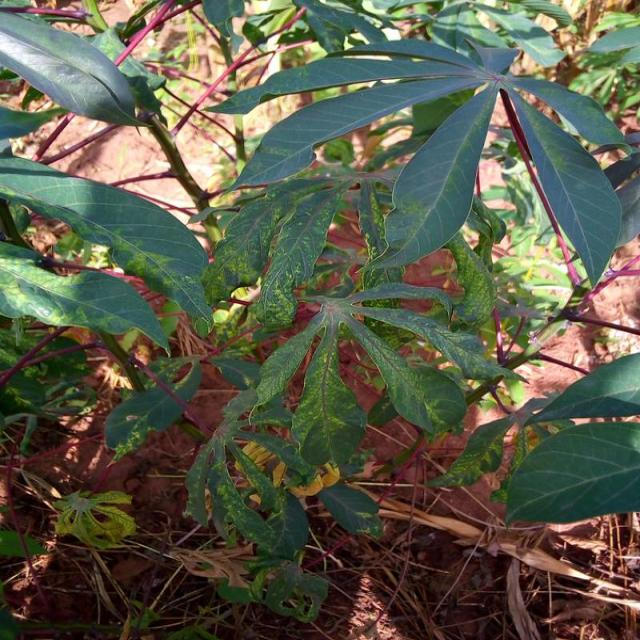cassava leaf: (206, 34, 630, 293), (0, 152, 214, 338), (358, 78, 501, 281), (499, 81, 622, 290), (0, 240, 171, 356), (0, 6, 140, 127), (504, 420, 639, 527)
